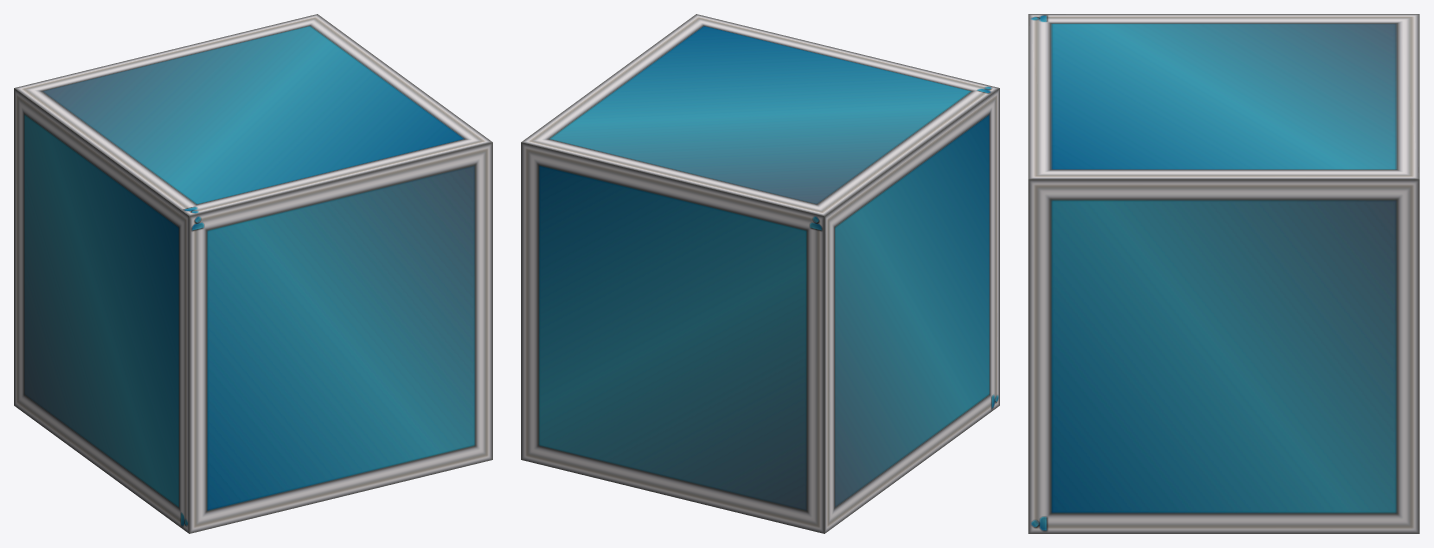
The model's file is player_interface.obj.
The picture shows the model from 3 angles, left to right: view 1: azimuth 30°, elevation 25°; view 2: azimuth 150°, elevation 25°; view 3: azimuth 270°, elevation 25°; orthographic projection. The views are drawn at different scales.
Visible parts, largest first — view 1: Cube.011_Cube.026; view 2: Cube.011_Cube.026; view 3: Cube.011_Cube.026.
Part boxes in pixels (box(x1,y1,x2,y2)): Cube.011_Cube.026: box(14, 14, 492, 533); Cube.011_Cube.026: box(521, 14, 999, 533); Cube.011_Cube.026: box(1028, 14, 1419, 533).
Bounding box in the file's own units: 1 × 1 × 1.
